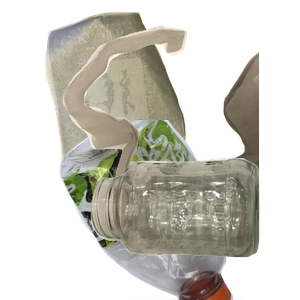glass: (88, 156, 300, 300)
paper: (43, 10, 221, 185)
plastic: (57, 120, 293, 300)
trash: (60, 23, 300, 203)
